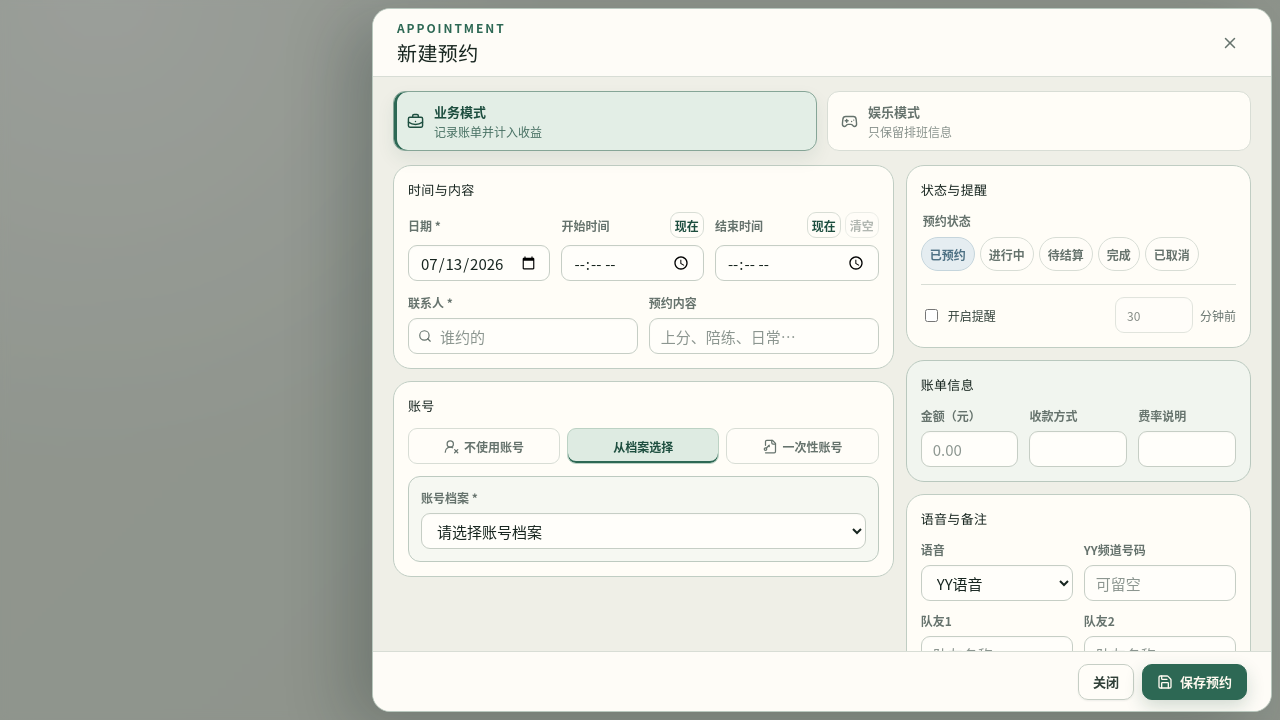
it: AppointmentDrawer › rejects equal start and end times
Type "10:00" into the time field labelled "开始时间" at [633, 263], box [561,245,704,281]
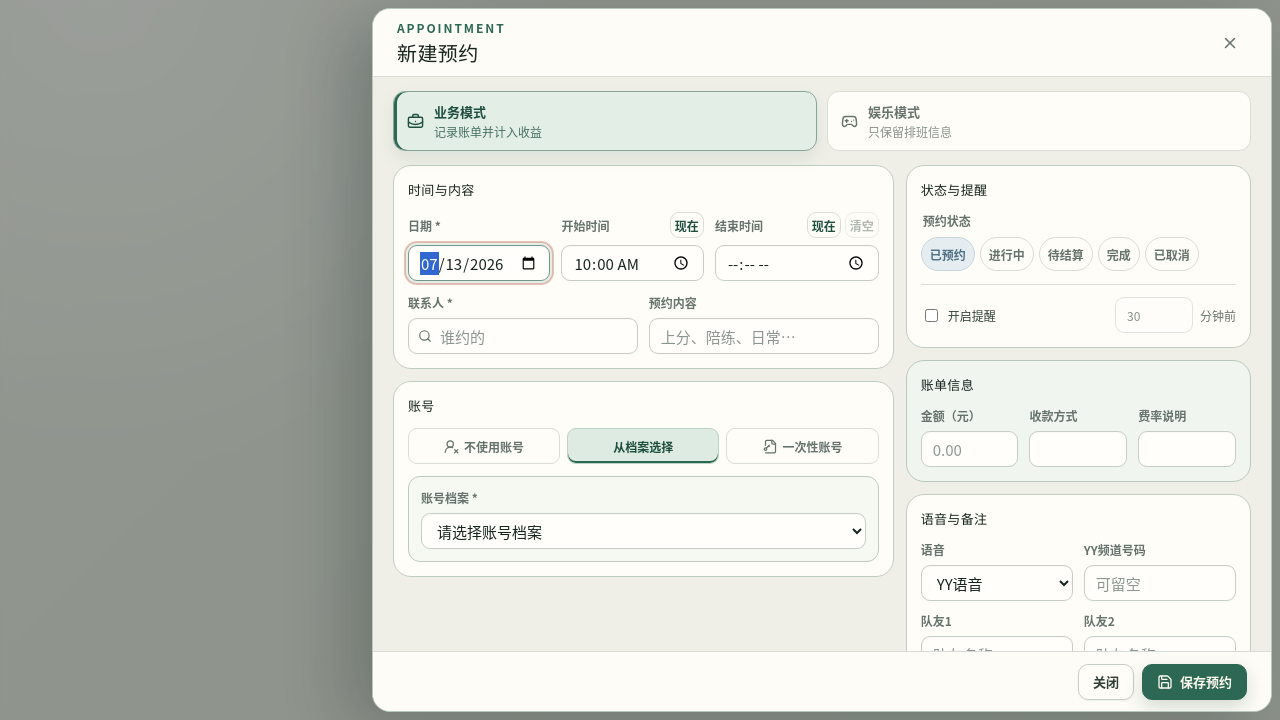
Type "10:00" into the time field labelled "结束时间" at [797, 263], box [715,245,879,281]
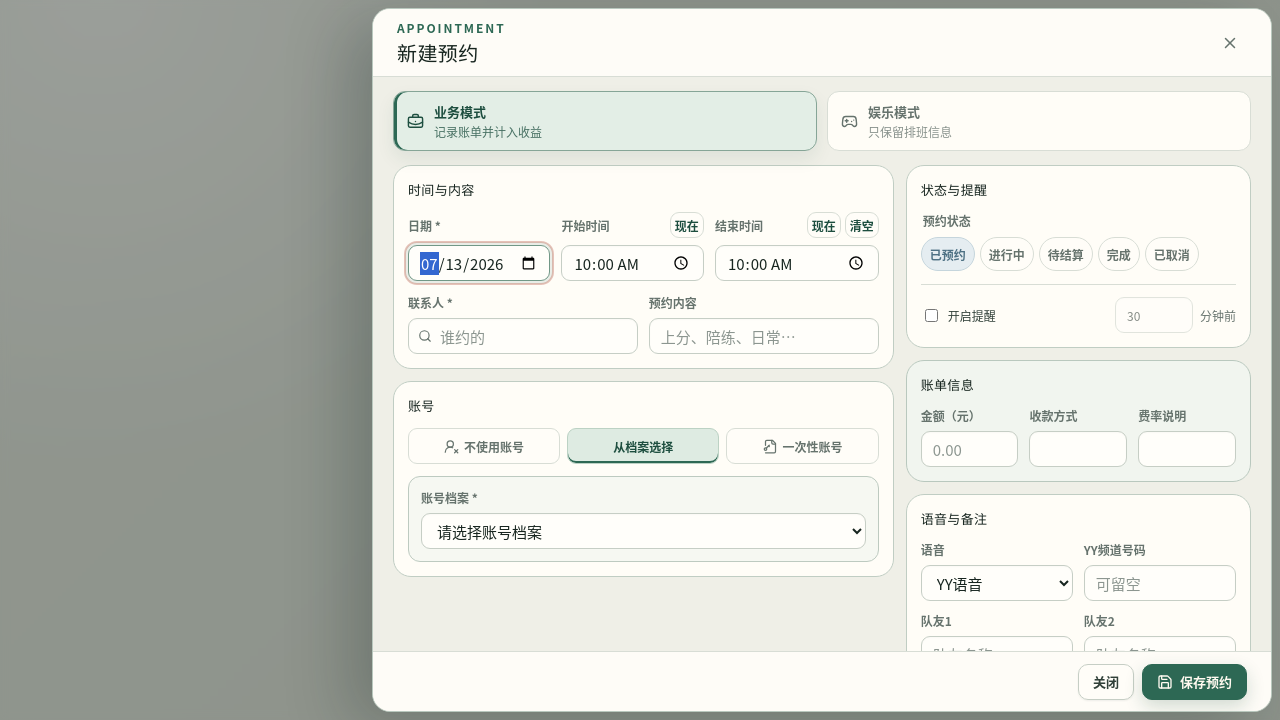
Click the submit button at [1194, 682], box [1142,664,1247,700]
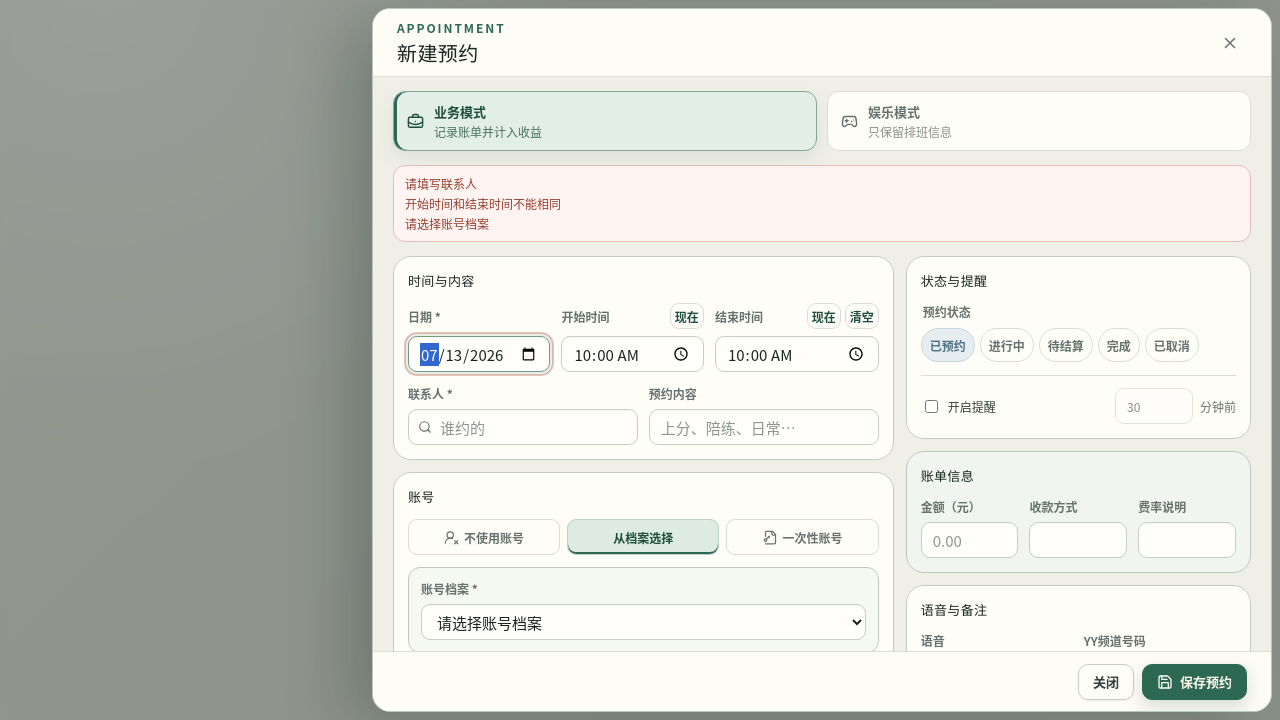
Expected: the text "开始时间和结束时间不能相同" is shown, [405,195,561,212]
